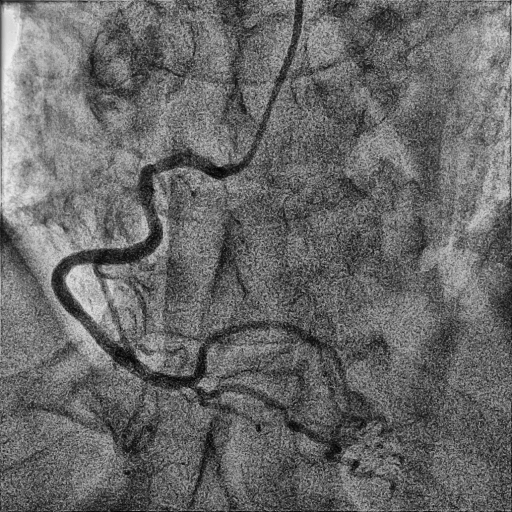pborca: (190, 320, 349, 390)
pda: (189, 384, 395, 500)
rca: (52, 153, 219, 390)
